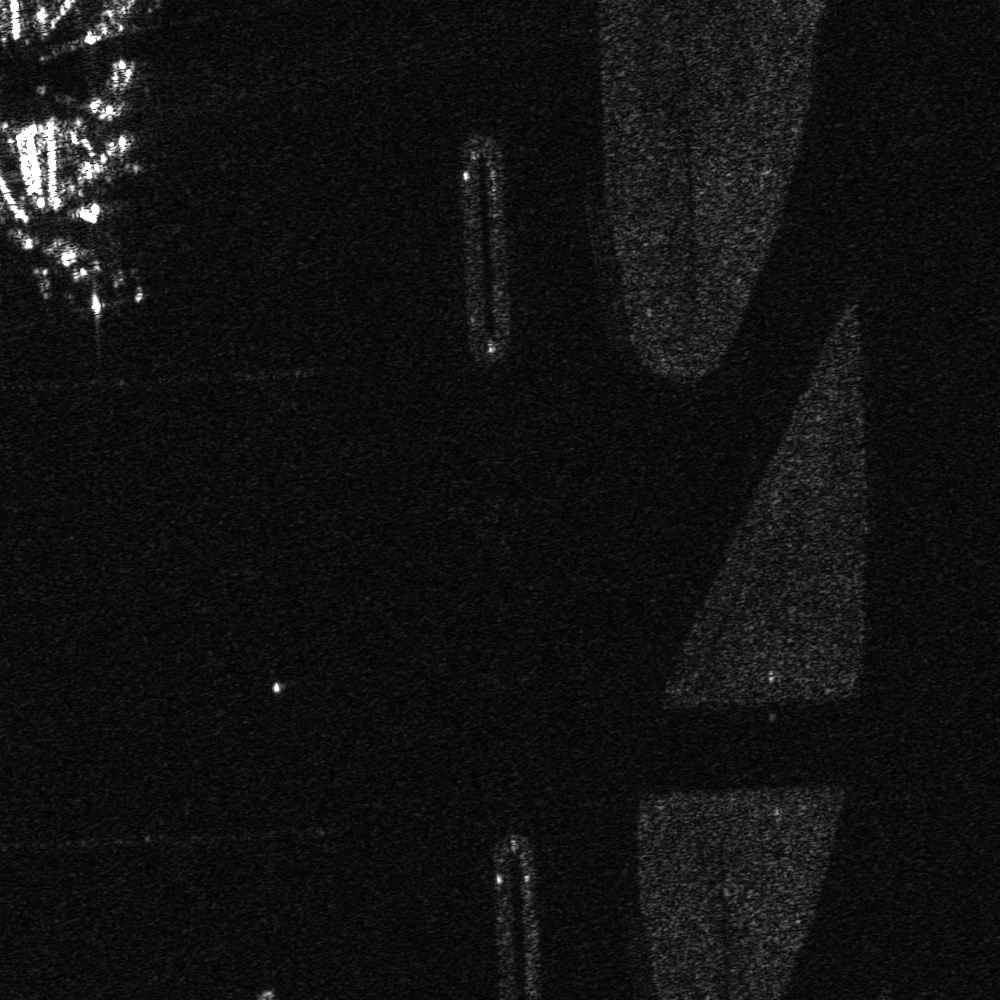Boeing737: (23, 229, 137, 329)
